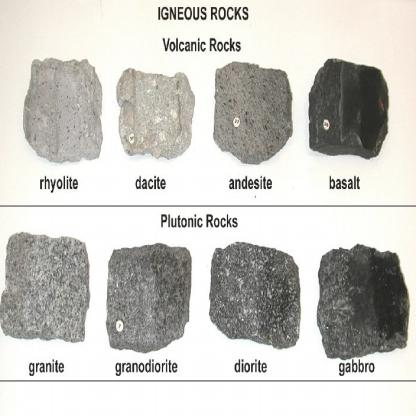Igneous_Diorite: (204, 232, 302, 349)
